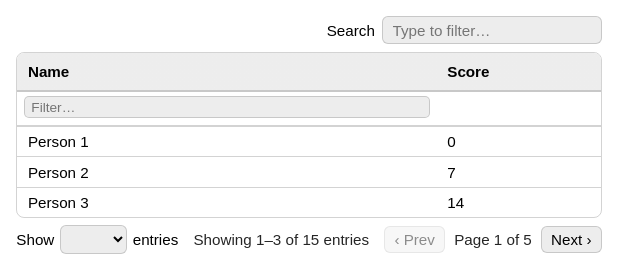
Test: DataTable per-column filters › snaps back to page 1 when a column filter changes
Step 1. Click the button with aria-label "Next page" → (571, 240), box top-left (541, 226), bottom-right (602, 253)
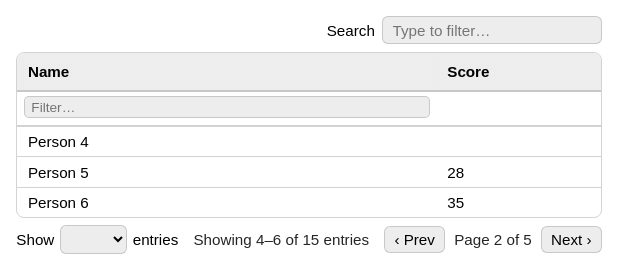
Now the text with class "readout" reads "Showing 4–6 of 15 entries", box top-left (194, 231), bottom-right (369, 248)
Step 2. Type "Person 1" into the search field named "Filter Name" → (227, 107), box top-left (24, 96), bottom-right (430, 118)
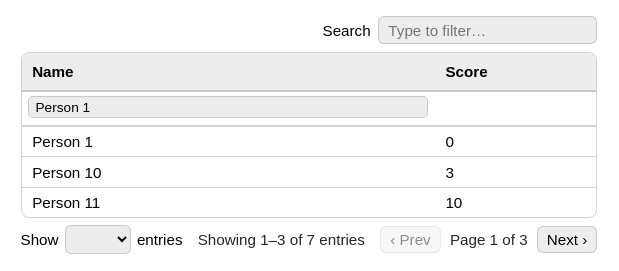
Now the text with class "readout" reads "Showing 1–3 of 7 entries", box top-left (198, 231), bottom-right (365, 248)
